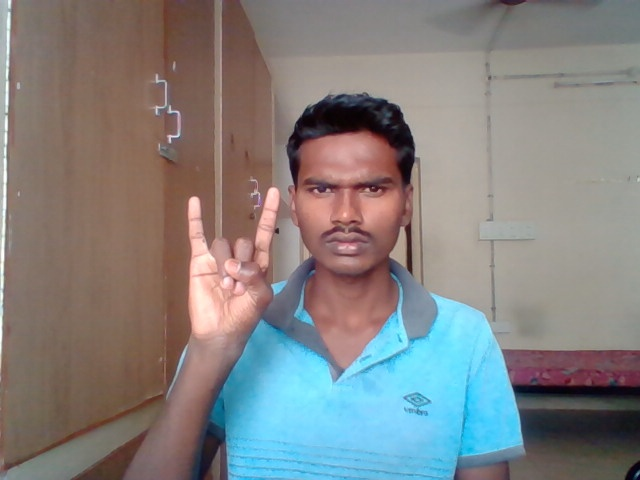I Love You: (183, 184, 285, 341)
